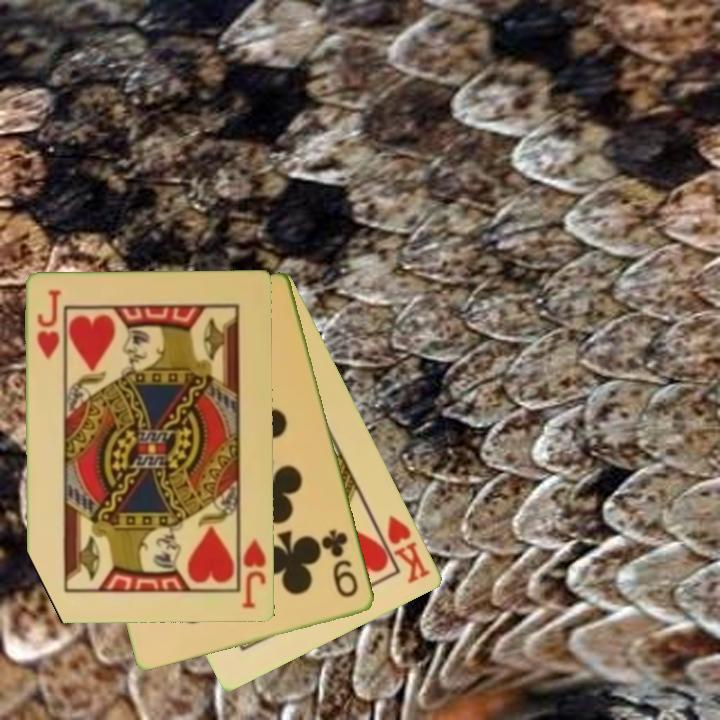9c: (320, 526, 362, 601)
Jh: (236, 528, 269, 612), (34, 286, 63, 362)
Kh: (371, 512, 434, 587)
